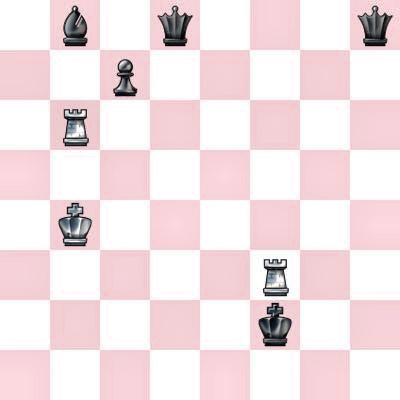black-bishop: (50, 0, 100, 50)
black-king: (250, 300, 300, 350)
black-pawn: (100, 50, 150, 100)
black-queen: (150, 0, 200, 50), (350, 0, 400, 50)
white-king: (50, 200, 100, 250)
white-rook: (50, 100, 100, 150), (250, 250, 300, 300)
